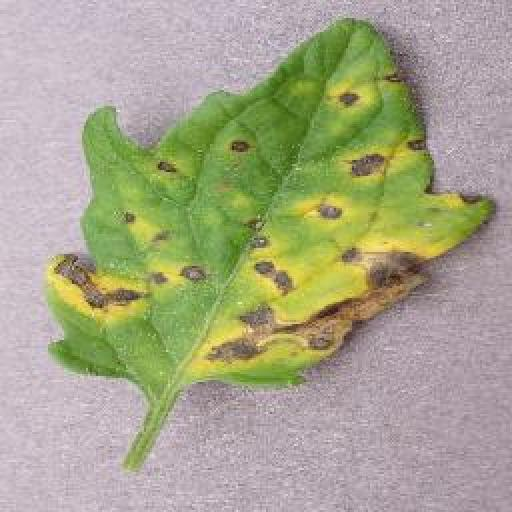Septoria: (49, 19, 496, 389)
